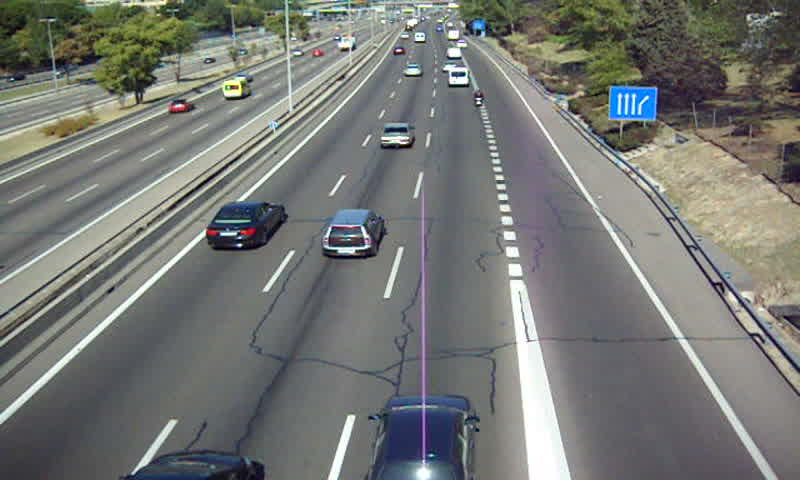car: (369, 395, 472, 480), (205, 202, 284, 249), (320, 209, 383, 257), (379, 122, 414, 148), (404, 62, 422, 76)
motorcycle: (473, 88, 486, 107)
van: (448, 67, 469, 88), (448, 48, 464, 60)
